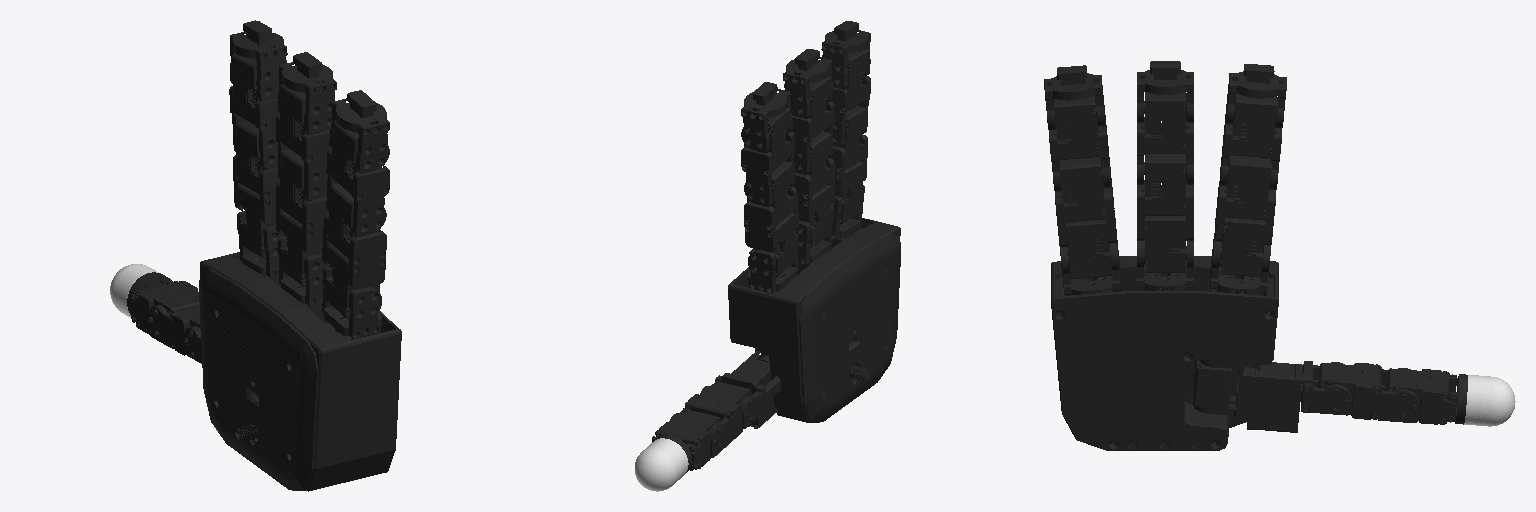
robot.urdf — allegro_hand_right:
<?xml version="1.0" ?>
<!-- =================================================================================== -->
<!-- |    This document was autogenerated by xacro from allegro_hand_description_right.xacro | -->
<!-- |    EDITING THIS FILE BY HAND IS NOT RECOMMENDED                                 | -->
<!-- =================================================================================== -->
<robot name="allegro_hand_right" xmlns:xacro="http://www.ros.org/wiki/xacro">
  <!-- ======================== BASE PARAMS ========================= -->
  <!-- ======================== FINGER PARAMS ======================== -->
  <!-- full height from joint to tip. when used,
    the radius of the finger tip sphere will be subtracted
    and one fixed link will be added for the tip. -->
  <!-- ========================= THUMB PARAMS ========================= -->
  <!-- ========================= LIMITS ========================= -->
  <!-- ============================================================================= -->
  <!-- PALM -->
 <link name="world"/>
  <joint name="global" type="fixed">
        <parent link="world"/>
        <child link="palm_link"/>
        <!--<origin xyz="0 0 0.095" rpy="0 0 0"/>-->
        <origin xyz="0 0 0.0" rpy="0 0 0"/>
  </joint>
  <link name="palm_link">
    <visual>
      <geometry>
        <mesh filename="package://allegro_hand_controllers/meshes/palm.stl" scale="0.001 0.001 0.001"/>
      </geometry>
      <origin rpy="0 3.14 1.57" xyz="0.02 -0.00 -0.1"/>
      <material name="black">
        <color rgba="0.2 0.2 0.2 1"/>
      </material>
    </visual>
    <collision>
      <geometry>
        <mesh filename="package://allegro_hand_controllers/meshes/palm.stl" scale="0.001 0.001 0.001"/>
      </geometry>
 <origin rpy="0 3.14 1.57" xyz="0.02 -0.00 -0.1"/>
    </collision>
    <inertial>
      <origin rpy="0 0 0" xyz="0 0 0.0475"/>
      <mass value="0.4154"/>
      <inertia ixx="1e-4" ixy="0.0" ixz="0.0" iyy="1e-4" iyz="0.0" izz="1e-4"/>
    </inertial>
  </link>
  <!-- ============================================================================= -->
  <!-- FINGERS -->
  <!-- RIGHT HAND due to which finger is number 0 -->
  <!-- for LEFT HAND switch the sign of the **offset_origin_y** and **finger_angle_r** parameters-->
  <!-- [LINK 0, 4, 8] -->
  <link name="link_0_0">
    <visual>
      <geometry>
        <mesh filename="package://allegro_hand_controllers/meshes/l1.stl" scale="0.001 0.001 0.001"/>
      </geometry>
      <origin rpy="0 0 -1.57" xyz="-0.025 -0.019 0.165"/>
      <material name="black">
        <color rgba="0.2 0.2 0.2 1"/>
      </material>
    </visual>
    <collision>
      <geometry>
        <mesh filename="package://allegro_hand_controllers/meshes/l1.stl" scale="0.001 0.001 0.001"/>
      </geometry>
      <origin rpy="0 0 -1.57" xyz="-0.025 -0.019 0.165"/>
    </collision>
    <inertial>
      <mass value="0.0176"/>
      <origin rpy="0 0 0" xyz="0 0 0"/>
      <inertia ixx="1.2854008e-05" ixy="2.04e-08" ixz="1.89e-06" iyy="1.225e-05" iyz="1.51e-07" izz="2.999e-06"/>
    </inertial>
  </link>
  <joint name="joint_0_0" type="revolute">
    <axis xyz="0 0 1"/>
    <limit effort="15" lower="-0.47" upper="0.47" velocity="7"/>
    <parent link="palm_link"/>
    <child link="link_0_0"/>
    <origin rpy="-0.08726646255 0 0" xyz="0.00 0.0405 -0.00945"/>
    <dynamics damping="3" friction="10"/>
  </joint>
  <!-- [LINK 1, 5, 9] -->
  <link name="link_1_0">
    <visual>
      <geometry>
        <mesh filename="package://allegro_hand_controllers/meshes/l2.stl" scale="0.001 0.001 0.001"/>
      </geometry>
      <origin rpy="0 0 -1.57" xyz="-0.025 -0.019 0.145"/>
      <material name="black"/>
    </visual>
    <collision>
      <geometry>
        <mesh filename="package://allegro_hand_controllers/meshes/l2.stl" scale="0.001 0.001 0.001"/>
      </geometry>
      <origin rpy="0 0 -1.57" xyz="-0.025 -0.019 0.145"/>
    </collision>
    <inertial>
      <mass value="0.066"/>
      <origin rpy="0 0 0" xyz="0 0 0"/>
      <inertia ixx="6.2497616e-06" ixy="0.0000e-06" ixz="-1.892683e-06" iyy="3.1284129e-05" iyz="0.0000e-06" izz="2.9004797e-05"/>
    </inertial>
  </link>
  <joint name="joint_1_0" type="revolute">
    <limit effort="15" lower="-0.196" upper="1.8" velocity="7"/>
    <axis xyz="0 1 0"/>
    <parent link="link_0_0"/>
    <child link="link_1_0"/>
    <origin xyz="0.00 0 0.021"/>
    <dynamics damping="3" friction="5"/>
  </joint>
  <!-- [LINK 2, 6, 10]-->
  <link name="link_2_0">
    <visual>
      <geometry>
        <mesh filename="package://allegro_hand_controllers/meshes/l3.stl" scale="0.001 0.001 0.001"/>
      </geometry>
      <origin rpy="0 0 -1.57" xyz="-0.025 -0.019 0.0945"/>
      <material name="black"/>
    </visual>
    <collision>
      <geometry>
        <mesh filename="package://allegro_hand_controllers/meshes/l3.stl" scale="0.001 0.001 0.001"/>
      </geometry>
      <origin rpy="0 0 -1.57" xyz="-0.025 -0.019 0.0945"/>
    </collision>
    <inertial>
      <mass value="0.0366"/>
      <origin rpy="0 0 0" xyz="0 0 0"/>
      <inertia ixx="3.8070280e-06" ixy="5.7154287e-03" ixz="-9.9708657e-07" iyy="1.4547214e-05" iyz="2.632663e-04" izz="1.2905337e-05"/>
    </inertial>
  </link>
  <joint name="joint_2_0" type="revolute">
    <axis xyz="0 1 0"/>
    <limit effort="15" lower="-0.174" upper="1.709" velocity="7"/>
    <parent link="link_1_0"/>
    <child link="link_2_0"/>
    <origin xyz="0 0 0.051"/>
    <dynamics damping="8" friction="10"/>
  </joint>
  <!-- [LINK 3, 7, 11] -->
  <link name="link_3_0">
    <visual>
      <geometry>
        <mesh filename="package://allegro_hand_controllers/meshes/l4.stl" scale="0.001 0.001 0.001"/>
      </geometry>
      <origin rpy="0 0 -1.57" xyz="-0.025 -0.019 0.0561"/>
      <material name="black"/>
    </visual>
    <collision>
      <geometry>
        <mesh filename="package://allegro_hand_controllers/meshes/l4.stl" scale="0.001 0.001 0.001"/>
      </geometry>
      <origin rpy="0 0 -1.57" xyz="-0.025 -0.019 0.0561"/>
    </collision>
    <inertial>
      <mass value="0.00569"/>
      <origin rpy="0 0 0" xyz="0 0 0"/>
      <inertia ixx="1.176928e-06" ixy="5.0891669e-03" ixz="0.000000e-06" iyy="2.40127e-06" iyz="-5.3128971e-11" izz="1.674842e-06"/>
    </inertial>
  </link>
  <joint name="joint_3_0" type="revolute">
    <axis xyz="0 1 0"/>
    <limit effort="15" lower="-0.227" upper="1.618" velocity="7"/>
    <parent link="link_2_0"/>
    <child link="link_3_0"/>
    <origin xyz="0 0 0.0384"/>
    <dynamics damping="10" friction="12"/>
  </joint>
  <!-- [FINGER TIP] -->
  <link name="link_3_0_tip">
    <visual>
      <geometry>
        <mesh filename="package://allegro_hand_controllers/meshes/finger_tip.stl" scale="0.001 0.001 0.001"/>
      </geometry>
       <origin rpy="0 0 -1.57" xyz="-0.05482 -0.01393 -0.00995"/>
      <material name="white">
        <color rgba=".9 .9 .9 1"/>
      </material>
    </visual>
    <collision>
      <geometry>
        <mesh filename="package://allegro_hand_controllers/meshes/finger_tip.stl" scale="0.001 0.001 0.001"/>
      </geometry>
       <origin rpy="0 0 -1.57" xyz="-0.05482 -0.01393 -0.00995"/>
    </collision>
    <inertial>
      <mass value="0.00"/>
      <origin rpy="0 0 0" xyz="0 0 0"/>
      <inertia ixx="9.68e-07" ixy="0" ixz="0" iyy="9.68e-07" iyz="0" izz="9.68e-07"/>
    </inertial>
  </link>
  <joint name="joint_3_0_tip" type="fixed">
    <parent link="link_3_0"/>
    <child link="link_3_0_tip"/>
    <origin rpy="0 0 0" xyz="0 0 0.0267"/>
  </joint>
  <!-- [LINK 0, 4, 8] -->
  <link name="link_4_0">
    <visual>
      <geometry>
        <mesh filename="package://allegro_hand_controllers/meshes/l1.stl" scale="0.001 0.001 0.001"/>
      </geometry>
        <origin rpy="0 0 -1.57" xyz="-0.025 -0.019 0.165"/>
      <material name="black"/>
    </visual>
    <collision>
     <geometry>
        <mesh filename="package://allegro_hand_controllers/meshes/l1.stl" scale="0.001 0.001 0.001"/>
      </geometry>
        <origin rpy="0 0 -1.57" xyz="-0.025 -0.019 0.165"/>
    </collision>
    <inertial>
      <mass value="0.0176"/>
      <origin rpy="0 0 0" xyz="0 0 0"/>
      <inertia ixx="1.2854008e-05" ixy="2.04e-08" ixz="1.89e-06" iyy="1.225e-05" iyz="1.51e-07" izz="2.999e-06"/>
    </inertial>
  </link>
  <joint name="joint_4_0" type="revolute">
    <axis xyz="0 0 1"/>
    <limit effort="15" lower="-0.47" upper="0.47" velocity="7"/>
    <parent link="palm_link"/>
    <child link="link_4_0"/>
    <origin rpy="0.0 0 0" xyz="0 0.00 -0.0079"/>
    <dynamics damping="3" friction="10"/>
  </joint>
  <!-- [LINK 1, 5, 9] -->
  <link name="link_5_0">
    <visual>
      <geometry>
        <mesh filename="package://allegro_hand_controllers/meshes/l2.stl" scale="0.001 0.001 0.001"/>
      </geometry>
      <origin rpy="0 0 -1.57" xyz="-0.025 -0.019 0.145"/>
      <material name="black"/>
    </visual>
    <collision>
      <geometry>
        <mesh filename="package://allegro_hand_controllers/meshes/l2.stl" scale="0.001 0.001 0.001"/>
      </geometry>
      <origin rpy="0 0 -1.57" xyz="-0.025 -0.019 0.145"/>
    </collision>
    <inertial>
      <mass value="0.066"/>
      <origin rpy="0 0 0" xyz="0 0 0"/>
      <inertia ixx="6.2497616e-06" ixy="0.0000e-06" ixz="-1.892683e-06" iyy="3.1284129e-05" iyz="0.0000e-06" izz="2.9004797e-05"/>
    </inertial>
  </link>
  <joint name="joint_5_0" type="revolute">
    <limit effort="15" lower="-0.196" upper="1.8" velocity="7"/>
    <axis xyz="0 1 0"/>
    <parent link="link_4_0"/>
    <child link="link_5_0"/>
    <origin xyz="0 0 0.021"/>
    <dynamics damping="3" friction="5"/>
  </joint>
  <!-- [LINK 2, 6, 10]-->
  <link name="link_6_0">
    <visual>
      <geometry>
        <mesh filename="package://allegro_hand_controllers/meshes/l3.stl" scale="0.001 0.001 0.001"/>
      </geometry>
      <origin rpy="0 0 -1.57" xyz="-0.025 -0.019 0.0945"/>
      <material name="black"/>
    </visual>
    <collision>
      <geometry>
        <mesh filename="package://allegro_hand_controllers/meshes/l3.stl" scale="0.001 0.001 0.001"/>
      </geometry>
      <origin rpy="0 0 -1.57" xyz="-0.025 -0.019 0.0945"/>
    </collision>
    <inertial>
      <mass value="0.0366"/>
      <origin rpy="0 0 0" xyz="0 0 0"/>
      <inertia ixx="3.8070280e-06" ixy="5.7154287e-03" ixz="-9.9708657e-07" iyy="1.4547214e-05" iyz="2.632663e-04" izz="1.2905337e-05"/>
    </inertial>
  </link>
  <joint name="joint_6_0" type="revolute">
    <axis xyz="0 1 0"/>
    <limit effort="15" lower="-0.174" upper="1.709" velocity="7"/>
    <parent link="link_5_0"/>
    <child link="link_6_0"/>
    <origin xyz="0 0 0.051"/>
    <dynamics damping="8" friction="10"/>
  </joint>
  <!-- [LINK 3, 7, 11] -->
  <link name="link_7_0">
    <visual>
      <geometry>
        <mesh filename="package://allegro_hand_controllers/meshes/l4.stl" scale="0.001 0.001 0.001"/>
      </geometry>
      <origin rpy="0 0 -1.57" xyz="-0.025 -0.019 0.0561"/>
      <material name="black"/>
    </visual>
    <collision>
      <geometry>
        <mesh filename="package://allegro_hand_controllers/meshes/l4.stl" scale="0.001 0.001 0.001"/>
      </geometry>
      <origin rpy="0 0 -1.57" xyz="-0.025 -0.019 0.0561"/>
    </collision>
    <inertial>
      <mass value="0.00569"/>
      <origin rpy="0 0 0" xyz="0 0 0"/>
      <inertia ixx="1.176928e-06" ixy="5.0891669e-03" ixz="0.000000e-06" iyy="2.40127e-06" iyz="-5.3128971e-11" izz="1.674842e-06"/>
    </inertial>
  </link>
  <joint name="joint_7_0" type="revolute">
    <axis xyz="0 1 0"/>
    <limit effort="15" lower="-0.227" upper="1.618" velocity="7"/>
    <parent link="link_6_0"/>
    <child link="link_7_0"/>
    <origin xyz="0 0 0.0384"/>
    <dynamics damping="10" friction="12"/>
  </joint>
  <!-- [FINGER TIP] -->
  <link name="link_7_0_tip">
    <visual>
      <geometry>
        <mesh filename="package://allegro_hand_controllers/meshes/finger_tip.stl" scale="0.001 0.001 0.001"/>
      </geometry>
       <origin rpy="0 0 -1.57" xyz="-0.05482 -0.01393 -0.00995"/>
      <material name="white">
        <color rgba=".9 .9 .9 1"/>
      </material>
    </visual>
    <collision>
      <geometry>
        <mesh filename="package://allegro_hand_controllers/meshes/finger_tip.stl" scale="0.001 0.001 0.001"/>
      </geometry>
       <origin rpy="0 0 -1.57" xyz="-0.05482 -0.01393 -0.00995"/>
    </collision>
    <inertial>
      <mass value="0.00"/>
      <origin rpy="0 0 0" xyz="0 0 0"/>
      <inertia ixx="9.68e-07" ixy="0" ixz="0" iyy="9.68e-07" iyz="0" izz="9.68e-07"/>
    </inertial>
  </link>
  <joint name="joint_7_0_tip" type="fixed">
    <parent link="link_7_0"/>
    <child link="link_7_0_tip"/>
    <origin rpy="0 0 0" xyz="0 0 0.0267"/>
  </joint>
  <!-- [LINK 0, 4, 8] -->
    <link name="link_8_0">
    <visual>
      <geometry>
        <mesh filename="package://allegro_hand_controllers/meshes/l1.stl" scale="0.001 0.001 0.001"/>
      </geometry>
      <origin rpy="0 0 -1.57" xyz="-0.025 -0.019 0.165"/>
      <material name="black">
        <color rgba="0.2 0.2 0.2 1"/>
      </material>
    </visual>
    <collision>
      <geometry>
        <mesh filename="package://allegro_hand_controllers/meshes/l1.stl" scale="0.001 0.001 0.001"/>
      </geometry>
      <origin rpy="0 0 -1.57" xyz="-0.025 -0.019 0.165"/>
    </collision>
    <inertial>
      <mass value="0.0176"/>
      <origin rpy="0 0 0" xyz="0 0 0"/>
      <inertia ixx="1.2854008e-05" ixy="2.04e-08" ixz="1.89e-06" iyy="1.225e-05" iyz="1.51e-07" izz="2.999e-06"/>
    </inertial>
  </link>
  <joint name="joint_8_0" type="revolute">
    <axis xyz="0 0 1"/>
    <limit effort="15" lower="-0.47" upper="0.47" velocity="7"/>
    <parent link="palm_link"/>
    <child link="link_8_0"/>
    <origin rpy="0.08726646255 0 0" xyz="0.0025 -0.0405 -0.00945"/>
    <dynamics damping="3" friction="10"/>
  </joint>
  <!-- [LINK 1, 5, 9] -->
  <link name="link_9_0">
    <visual>
      <geometry>
        <mesh filename="package://allegro_hand_controllers/meshes/l2.stl" scale="0.001 0.001 0.001"/>
      </geometry>
      <origin rpy="0 0 -1.57" xyz="-0.025 -0.019 0.145"/>
      <material name="black"/>
    </visual>
    <collision>
      <geometry>
        <mesh filename="package://allegro_hand_controllers/meshes/l2.stl" scale="0.001 0.001 0.001"/>
      </geometry>
      <origin rpy="0 0 -1.57" xyz="-0.025 -0.019 0.145"/>
    </collision>
    <inertial>
      <mass value="0.066"/>
      <origin rpy="0 0 0" xyz="0 0 0"/>
      <inertia ixx="6.2497616e-06" ixy="0.0000e-06" ixz="-1.892683e-06" iyy="3.1284129e-05" iyz="0.0000e-06" izz="2.9004797e-05"/>
    </inertial>
  </link>
  <joint name="joint_9_0" type="revolute">
    <limit effort="15" lower="-0.196" upper="1.8" velocity="7"/>
    <axis xyz="0 1 0"/>
    <parent link="link_8_0"/>
    <child link="link_9_0"/>
    <origin xyz="0 0 0.021"/>
    <dynamics damping="3" friction="5"/>
  </joint>
  <!-- [LINK 2, 6, 10]-->
  <link name="link_10_0">
    <visual>
      <geometry>
        <mesh filename="package://allegro_hand_controllers/meshes/l3.stl" scale="0.001 0.001 0.001"/>
      </geometry>
      <origin rpy="0 0 -1.57" xyz="-0.025 -0.019 0.0945"/>
      <material name="black"/>
    </visual>
    <collision>
      <geometry>
        <mesh filename="package://allegro_hand_controllers/meshes/l3.stl" scale="0.001 0.001 0.001"/>
      </geometry>
      <origin rpy="0 0 -1.57" xyz="-0.025 -0.019 0.0945"/>
    </collision>
    <inertial>
      <mass value="0.0366"/>
      <origin rpy="0 0 0" xyz="0 0 0"/>
      <inertia ixx="3.8070280e-06" ixy="5.7154287e-03" ixz="-9.9708657e-07" iyy="1.4547214e-05" iyz="2.632663e-04" izz="1.2905337e-05"/>
    </inertial>
  </link>
  <joint name="joint_10_0" type="revolute">
    <axis xyz="0 1 0"/>
    <limit effort="15" lower="-0.174" upper="1.709" velocity="7"/>
    <parent link="link_9_0"/>
    <child link="link_10_0"/>
    <origin xyz="0 0 0.051"/>
    <dynamics damping="8" friction="10"/>
  </joint>
  <!-- [LINK 3, 7, 11] -->
  <link name="link_11_0">
    <visual>
      <geometry>
        <mesh filename="package://allegro_hand_controllers/meshes/l4.stl" scale="0.001 0.001 0.001"/>
      </geometry>
      <origin rpy="0 0 -1.57" xyz="-0.025 -0.019 0.0561"/>
      <material name="black"/>
    </visual>
    <collision>
      <geometry>
        <mesh filename="package://allegro_hand_controllers/meshes/l4.stl" scale="0.001 0.001 0.001"/>
      </geometry>
      <origin rpy="0 0 -1.57" xyz="-0.025 -0.019 0.0561"/>
    </collision>
    <inertial>
      <mass value="0.00569"/>
      <origin rpy="0 0 0" xyz="0 0 0"/>
      <inertia ixx="1.176928e-06" ixy="5.0891669e-03" ixz="0.000000e-06" iyy="2.40127e-06" iyz="-5.3128971e-11" izz="1.674842e-06"/>
    </inertial>
  </link>
  <joint name="joint_11_0" type="revolute">
    <axis xyz="0 1 0"/>
    <limit effort="15" lower="-0.227" upper="1.618" velocity="7"/>
    <parent link="link_10_0"/>
    <child link="link_11_0"/>
    <origin xyz="0 0 0.0384"/>
    <dynamics damping="10" friction="12"/>
  </joint>
  <!-- [FINGER TIP] -->
  <link name="link_11_0_tip">
    <visual>
      <geometry>
        <mesh filename="package://allegro_hand_controllers/meshes/finger_tip.stl" scale="0.001 0.001 0.001"/>
      </geometry>
      <origin rpy="0 0 -1.57" xyz="-0.05482 -0.01393 -0.00995"/>
      <material name="white">
        <color rgba=".9 .9 .9 1"/>
      </material>
    </visual>
    <collision>
      <geometry>
        <mesh filename="package://allegro_hand_controllers/meshes/finger_tip.stl" scale="0.001 0.001 0.001"/>
      </geometry>
      <origin rpy="0 0 -1.57" xyz="-0.05482 -0.01393 -0.00995"/>
    </collision>
    <inertial>
      <mass value="0.00"/>
      <origin rpy="0 0 0" xyz="0 0 0"/>
      <inertia ixx="9.68e-07" ixy="0" ixz="0" iyy="9.68e-07" iyz="0" izz="9.68e-07"/>
    </inertial>
  </link>
  <joint name="joint_11_0_tip" type="fixed">
    <parent link="link_11_0"/>
    <child link="link_11_0_tip"/>
    <origin rpy="0 0 0" xyz="0 0 0.0267"/>
  </joint>
  <!-- THUMB -->
  <!-- [LINK 12] -->
  <link name="link_12_0">
    <visual>
      <geometry>
        <mesh filename="package://allegro_hand_controllers/meshes/t1_set.stl" scale="0.001 0.001 0.001"/>
      </geometry>
      <origin rpy="3.926991 3.14 3.14" xyz="0.021 -0.1145 0.0725"/>
      <material name="black">
        <color rgba=".2 .2 .2 1"/>
      </material>
    </visual>
    <collision>
      <geometry>
        <mesh filename="package://allegro_hand_controllers/meshes/t1_set.stl" scale="0.001 0.001 0.001"/>
      </geometry>
      <origin rpy="3.926991 3.14 3.14" xyz="0.021 -0.1145 0.0725"/>
    </collision>
    <inertial>
      <mass value="0.0446"/>
      <origin rpy="0 0 0" xyz="0 0 0"/>
      <inertia ixx="5.44e-5" ixy="4.0e-07" ixz="-1.12e-07" iyy="9.19e-06" iyz="1.07e-05" izz="4.8e-05"/>
    </inertial>
  </link>
  <joint name="joint_12_0" type="revolute">
    <axis xyz="-1 0 0"/>
    <limit effort="15" lower="0.00" upper="1.78" velocity="7"/>
    <parent link="palm_link"/>
    <child link="link_12_0"/>
    <origin rpy="0 -1.65806278845 -1.5707963259" xyz="0.002 0.027 -0.06342"/>
    <dynamics damping="3" friction="10"/>
  </joint>
  <!-- [LINK 13] -->
  <link name="link_13_0">
    <visual>
      <geometry>
        <mesh filename="package://allegro_hand_controllers/meshes/t2_set.stl" scale="0.001 0.001 0.001"/>
      </geometry>
      <origin rpy="3.14 3.14 1.57" xyz="-0.138 -0.0605 0.2143"/>
      <material name="black">
        <color rgba=".2 .2 .2 1"/>
      </material>
    </visual>
    <collision>
      <geometry>
        <mesh filename="package://allegro_hand_controllers/meshes/t2_set.stl" scale="0.001 0.001 0.001"/>
      </geometry>
      <origin rpy="3.14 3.14 1.57" xyz="-0.138 -0.0605 0.2143"/>
    </collision>
    <inertial>
      <mass value="0.0173"/>
      <origin rpy="0 0 0" xyz="0 0 0"/>
      <inertia ixx="1.52e-05" ixy="-2.09e-08" ixz="-9.8e-09" iyy="1.3323e-05" iyz="-2.04e-06" izz="2.85e-06"/>
    </inertial>
  </link>
  <joint name="joint_13_0" type="revolute">
    <axis xyz="0 0 1"/>
       <limit effort="15" lower="-0.26" upper="1.78" velocity="7"/>
    <parent link="link_12_0"/>
    <child link="link_13_0"/>
    <origin xyz="-0.001 0.00 0.06874"/>
    <dynamics damping="3" friction="5"/>
  </joint>
  <!-- [LINK 14] -->
  <link name="link_14_0">
    <visual>
      <geometry>
        <mesh filename="package://allegro_hand_controllers/meshes/t3_set.stl" scale="0.001 0.001 0.001"/>
      </geometry>
      <origin rpy="3.14 3.14 1.57" xyz="-0.1265 -0.061 0.166"/>
      <material name="black">
      </material>
    </visual>
    <collision>
      <geometry>
        <mesh filename="package://allegro_hand_controllers/meshes/t3_set.stl" scale="0.001 0.001 0.001"/>
      </geometry>
      <origin rpy="3.14 3.14 1.57" xyz="-0.1265 -0.061 0.166"/>
    </collision>
    <inertial>
      <mass value="0.03607"/>
      <origin rpy="0 0 0" xyz="0 0 0"/>
      <inertia ixx="3.7e-06" ixy="2.43e-07" ixz="6.48e-07" iyy="1.54e-05" iyz="-3.11e-08" izz="1.388e-05"/>
    </inertial>
  </link>
  <joint name="joint_14_0" type="revolute">
    <axis xyz="0 1 0"/>
    <!--<limit effort="15" lower="-0.54" upper="1.53" velocity="7"/>-->
           <limit effort="15" lower="-0.05" upper="1.85" velocity="7"/>
    <parent link="link_13_0"/>
    <child link="link_14_0"/>
    <origin xyz="0 0 0.00"/>
    <dynamics damping="3" friction="10"/>
  </joint>
  <!-- [LINK 15] -->
  <link name="link_15_0">
    <visual>
      <geometry>
         <mesh filename="package://allegro_hand_controllers/meshes/t4_set.stl" scale="0.001 0.001 0.001"/>
      </geometry>
      <origin rpy="3.14 3.14 1.57" xyz="-0.149 -0.061 0.096"/>
      <material name="black">
      </material>
    </visual>
    <collision>
      <geometry>
         <mesh filename="package://allegro_hand_controllers/meshes/t4_set.stl" scale="0.001 0.001 0.001"/>
      </geometry>
      <origin rpy="3.14 3.14 1.57" xyz="-0.149 -0.061 0.096"/>
    </collision>
    <inertial>
      <mass value="0.0338"/>
      <origin rpy="0 0 0" xyz="0 0 0"/>
      <inertia ixx="2.94e-06" ixy="1.244e-07" ixz="3.52e-07" iyy="1.13e-05" iyz="-3.11e-08" izz="1.06e-05"/>
    </inertial>
  </link>
  <joint name="joint_15_0" type="revolute">
    <axis xyz="0 1 0"/>
    <limit effort="15" lower="-0.09" upper="1.80" velocity="7"/>
    <parent link="link_14_0"/>
    <child link="link_15_0"/>
    <origin xyz="0 0 0.038"/>
    <dynamics damping="3" friction="12"/>
  </joint>
  <!-- [FINGER TIP] -->
  <link name="link_15_0_tip">
    <visual>
      <geometry>
        <mesh filename="package://allegro_hand_controllers/meshes/finger_tip_silicon.stl" scale="0.001 0.001 0.001"/>
      </geometry>
      <origin rpy="0 0 3.14" xyz="-0.014 0.0545 -0.0172"/>
      <material name="white">
        <color rgba=".9 .9 .9 1"/>
      </material>
    </visual>
    <collision>
      <geometry>
        <mesh filename="package://allegro_hand_controllers/meshes/finger_tip_silicon.stl" scale="0.001 0.001 0.001"/>
      </geometry>
      <origin rpy="0 0 3.14" xyz="-0.014 0.0545 -0.0172"/>
    </collision>
    <inertial>
      <mass value="0.00"/>
      <origin rpy="0 0 0" xyz="0 0 0"/>
      <inertia ixx="9.68e-07" ixy="0" ixz="0" iyy="9.68e-07" iyz="0" izz="9.68e-07"/>
    </inertial>
  </link>
  <joint name="joint_15_0_tip" type="fixed">
    <parent link="link_15_0"/>
    <child link="link_15_0_tip"/>
    <origin rpy="0 0 0" xyz="0 0 0.05"/>
  </joint>
  <!-- ============================================================================= -->
  <!-- THUMB MACRO -->
  <!-- END THUMB MACRO -->
  <!-- THREE FINGER MACRO -->
  <!-- [[END]] THREE FINGER MACRO -->
</robot>

--- Render facts (derived) ---
Views: 3 orthographic renders of the robot side by side, from view 1: azimuth 30°, elevation 25°; view 2: azimuth 150°, elevation 25°; view 3: azimuth 270°, elevation 25°.
Model allegro_hand_right with 22 links and 21 joints (16 revolute, 5 fixed), rooted at world, posed every joint at zero.
Links seen in each view (by area): view 1: palm_link, link_9_0, link_5_0, link_1_0, link_10_0, link_6_0, link_2_0, link_11_0, link_7_0, link_3_0, link_15_0, link_8_0 (+5 smaller); view 2: palm_link, link_1_0, link_5_0, link_9_0, link_2_0, link_14_0, link_6_0, link_3_0, link_15_0_tip, link_15_0, link_10_0, link_7_0 (+6 smaller); view 3: palm_link, link_9_0, link_1_0, link_5_0, link_12_0, link_14_0, link_10_0, link_2_0, link_6_0, link_15_0, link_15_0_tip, link_3_0 (+6 smaller).
Boxes of the visible links, left/top/right/bottom form: palm_link: left=199, top=252, right=401, bottom=491; link_9_0: left=322, top=183, right=386, bottom=318; link_5_0: left=276, top=149, right=328, bottom=286; link_1_0: left=233, top=121, right=279, bottom=258; link_10_0: left=326, top=121, right=389, bottom=236; link_6_0: left=276, top=84, right=331, bottom=200; link_2_0: left=229, top=54, right=286, bottom=168; link_11_0: left=329, top=90, right=389, bottom=173; link_7_0: left=278, top=52, right=336, bottom=134; link_3_0: left=230, top=20, right=287, bottom=100; link_15_0: left=127, top=272, right=199, bottom=334; link_8_0: left=322, top=266, right=381, bottom=338; palm_link: left=728, top=218, right=900, bottom=422; link_1_0: left=744, top=161, right=798, bottom=276; link_5_0: left=793, top=131, right=834, bottom=248; link_9_0: left=830, top=106, right=867, bottom=223; link_2_0: left=741, top=108, right=795, bottom=206; link_14_0: left=669, top=381, right=751, bottom=457; link_6_0: left=784, top=76, right=834, bottom=174; link_3_0: left=741, top=82, right=792, bottom=152; link_15_0_tip: left=635, top=438, right=688, bottom=491; link_15_0: left=652, top=409, right=720, bottom=472; link_10_0: left=822, top=49, right=870, bottom=146; link_7_0: left=783, top=49, right=832, bottom=118; palm_link: left=1051, top=256, right=1278, bottom=450; link_9_0: left=1055, top=157, right=1116, bottom=278; link_1_0: left=1215, top=155, right=1275, bottom=276; link_5_0: left=1137, top=154, right=1193, bottom=272; link_12_0: left=1195, top=360, right=1303, bottom=432; link_14_0: left=1318, top=363, right=1419, bottom=422; link_10_0: left=1049, top=95, right=1111, bottom=191; link_2_0: left=1220, top=93, right=1281, bottom=189; link_6_0: left=1137, top=92, right=1193, bottom=184; link_15_0: left=1386, top=368, right=1467, bottom=424; link_15_0_tip: left=1464, top=375, right=1515, bottom=426; link_3_0: left=1225, top=64, right=1286, bottom=128.
Size in the robot's own frame: 0.0626 by 0.2633 by 0.231 metres.
18 mesh visuals loaded from 11 distinct referenced files (10 binary STL); not drawn: 3 (reference not matched to a file when rendering).